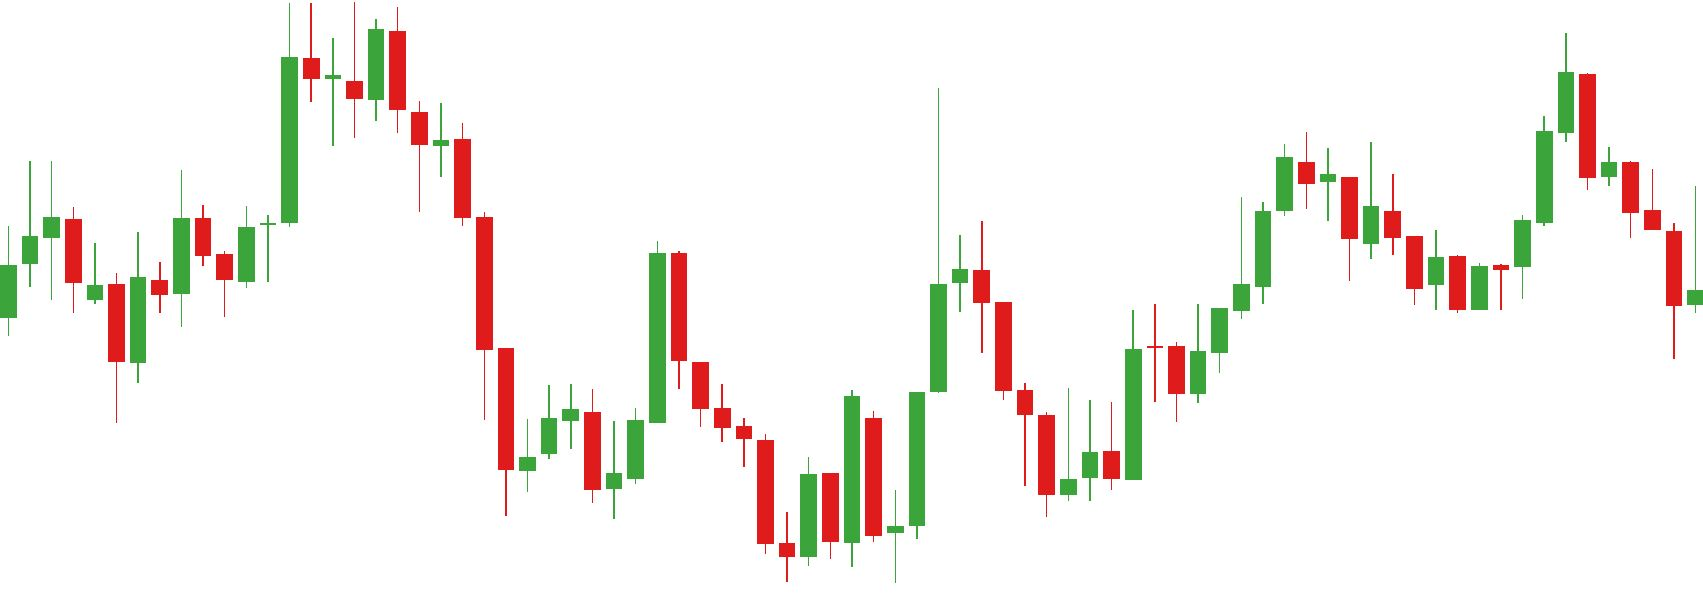buy: (606, 396, 821, 588)
sell: (1297, 31, 1602, 232)
